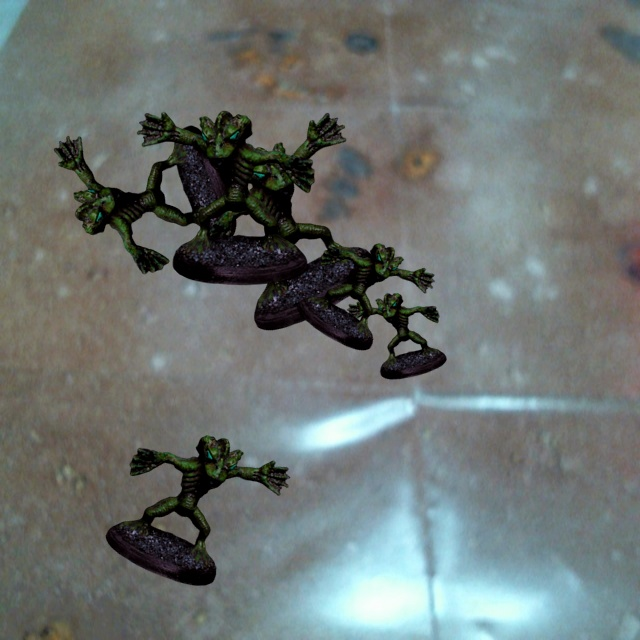pieza_juego: (202, 113, 376, 329), (137, 111, 314, 284), (106, 435, 289, 585), (54, 125, 236, 273), (297, 243, 434, 350), (347, 293, 446, 379)
